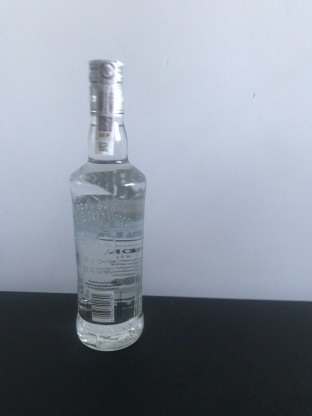nakretka: (85, 53, 127, 121)
